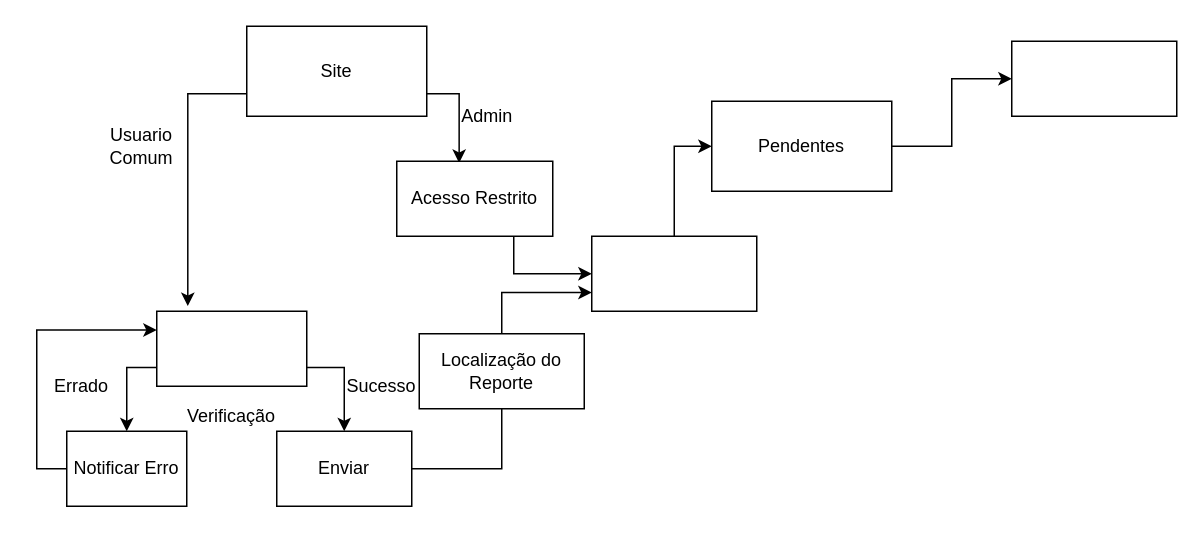
This 1203x533 diagram has some shape labels left out. Here are the shapes that lost their labels. From the top down, the box of each, then its label:
(1010, 40, 1177, 116): Veículo até o local
(590, 235, 757, 311): Receber Notificação
(155, 310, 307, 386): Reportar
